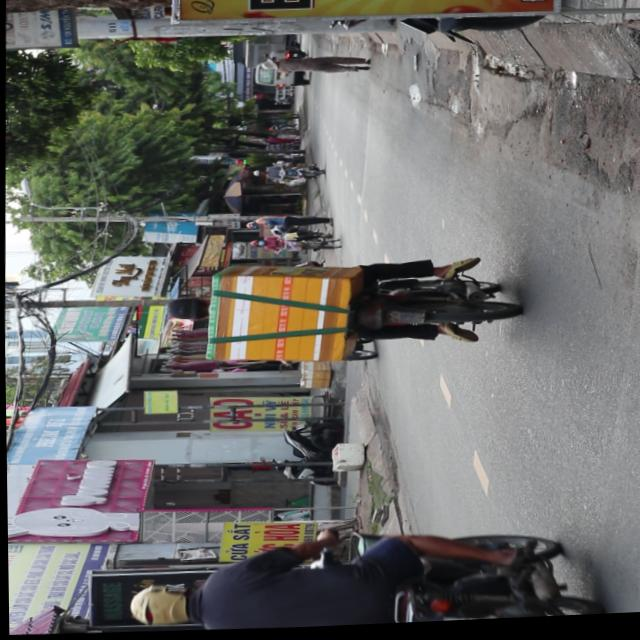helmet: (123, 582, 199, 631)
licenseplate: (120, 517, 605, 636), (158, 249, 522, 376)
motorcyclist: (164, 297, 208, 323)
